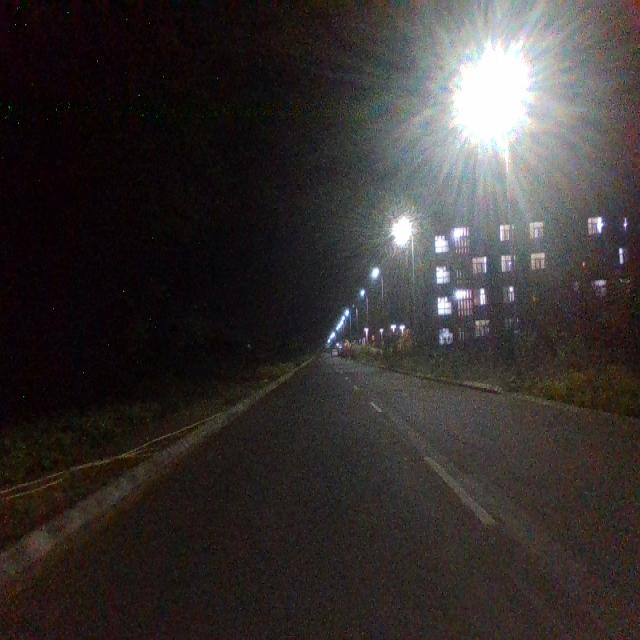lane: (0, 361, 583, 640)
